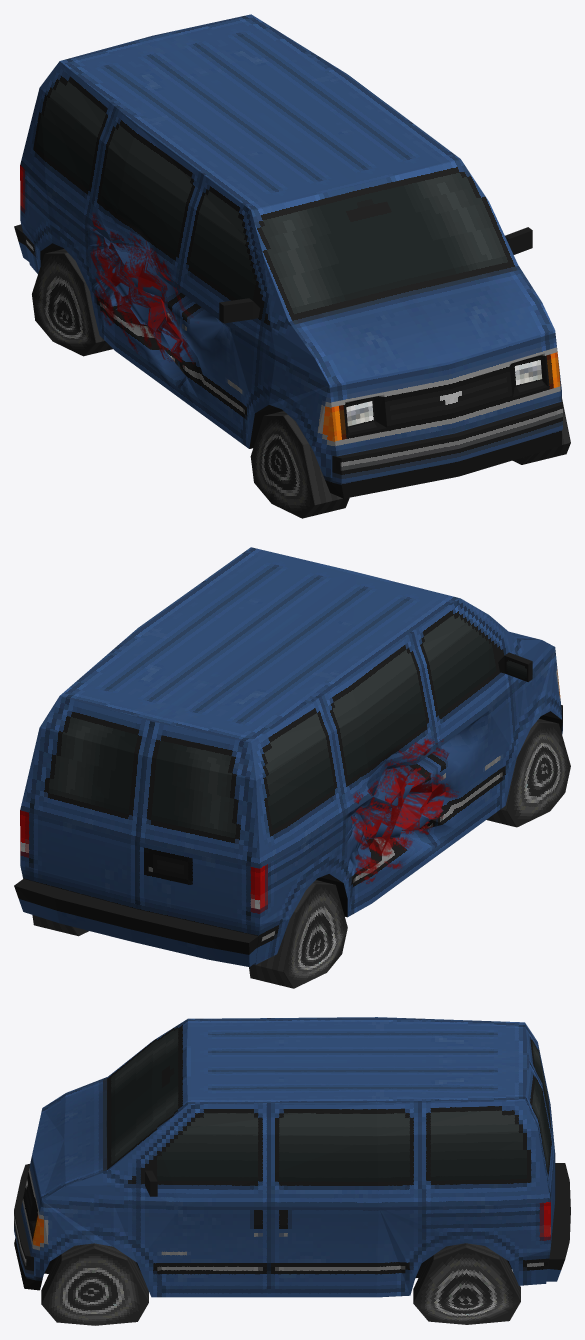
File: Car4_scratched.glb
The picture shows the model from 3 angles, top to bottom: view 1: azimuth 30°, elevation 25°; view 2: azimuth 150°, elevation 25°; view 3: azimuth 270°, elevation 25°; orthographic projection. The views are drawn at different scales.
Visible parts, largest first — view 1: Car4, CC_drag_&_smear; view 2: Car4, CC_drag_&_smear; view 3: Car4.
Part boxes in pixels (x1,y1,x2,y2): Car4: (14,14,570,518); CC_drag_&_smear: (90,213,194,366); Car4: (14,547,570,988); CC_drag_&_smear: (351,738,458,883); Car4: (14,1017,570,1325).
Bounding box in the file's own units: 3.4 × 2.59 × 6.3.
2 materials, 2 textured.
